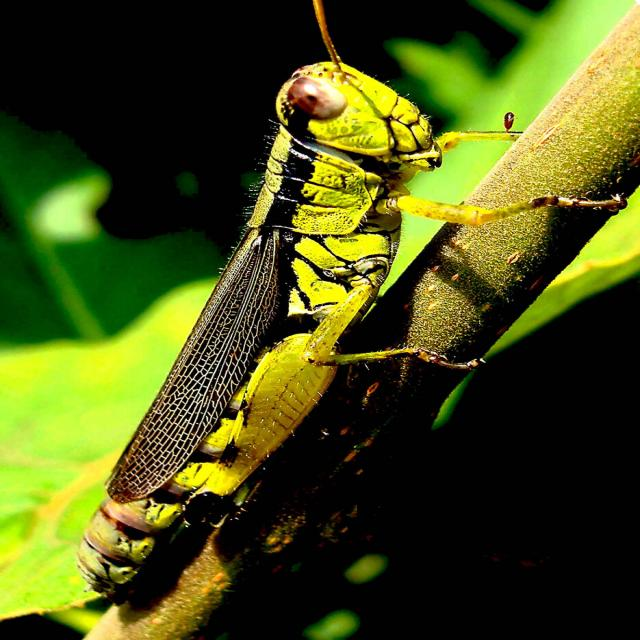ZhaMeng: (67, 39, 501, 612)
